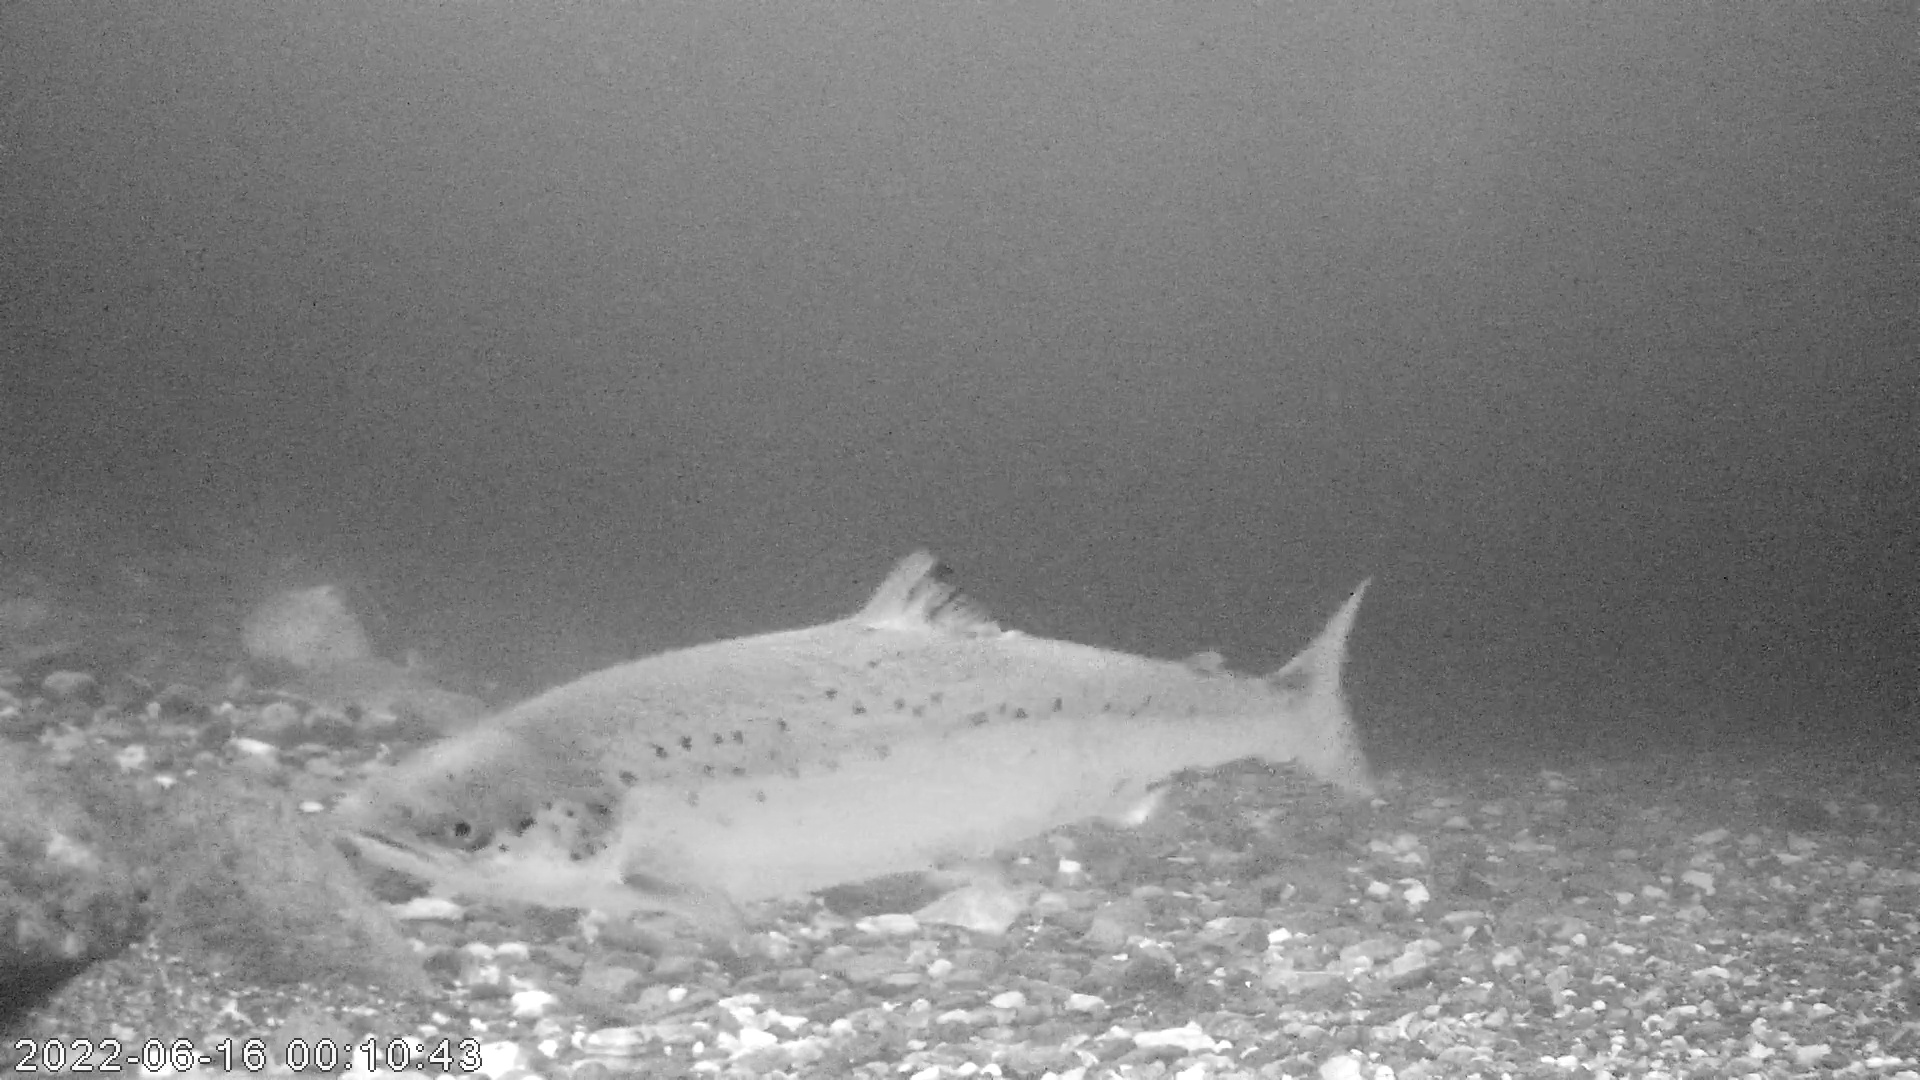salmon: (334, 542, 1382, 935)
